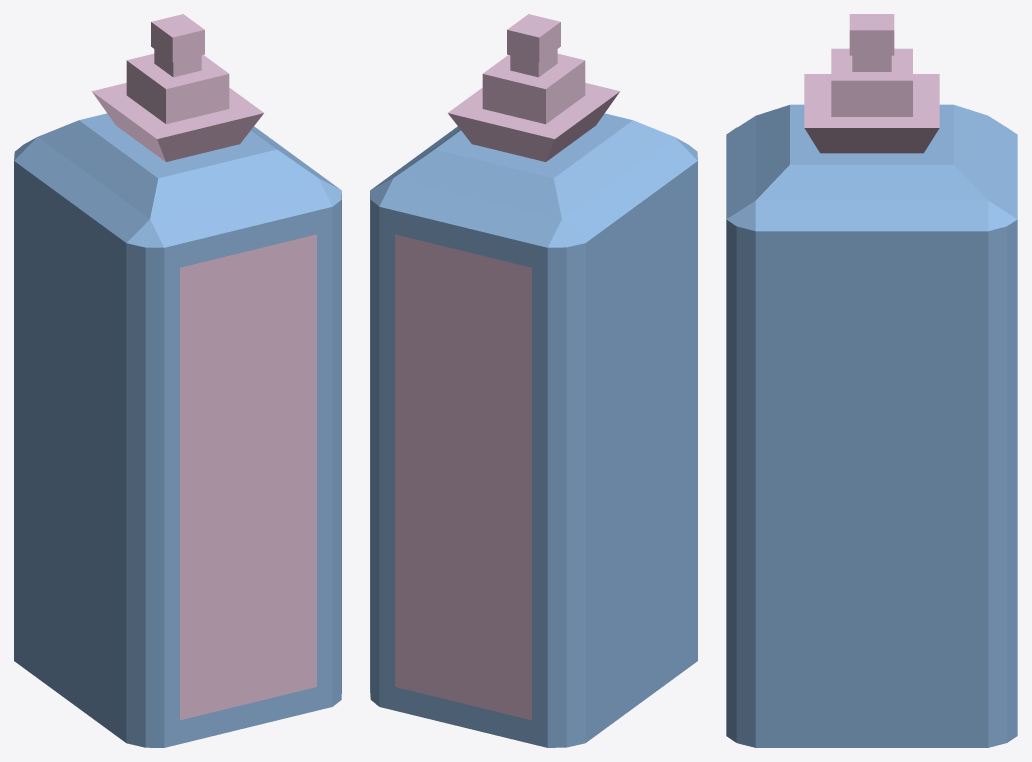
The model's file is rand bottle2.fbx.
The picture shows the model from 3 angles, left to right: view 1: azimuth 30°, elevation 25°; view 2: azimuth 150°, elevation 25°; view 3: azimuth 270°, elevation 25°; orthographic projection. The views are drawn at different scales.
Parts seen in each view (by area): view 1: soap liq.002; view 2: soap liq.002; view 3: soap liq.002.
Boxes of the visible parts, x1,y1,x2,y2 form: soap liq.002: (14,14,341,747); soap liq.002: (370,14,697,747); soap liq.002: (726,14,1017,747).
Bounding box in the file's own units: 50.93 × 147 × 57.68.
